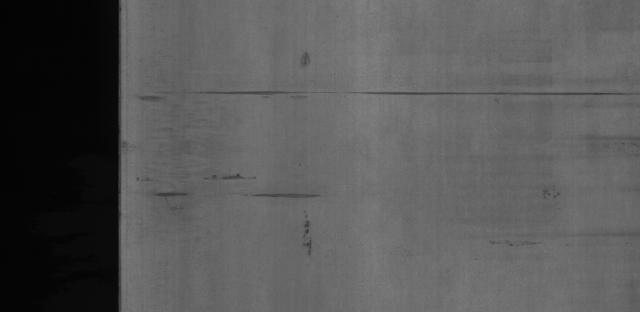crease: (153, 81, 634, 108), (246, 189, 338, 208), (294, 216, 325, 258), (200, 170, 264, 182), (152, 188, 198, 200), (300, 49, 315, 66)
